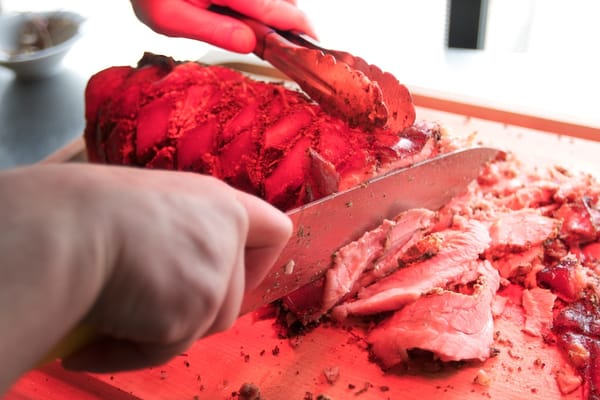sushi: (0, 9, 88, 81)
